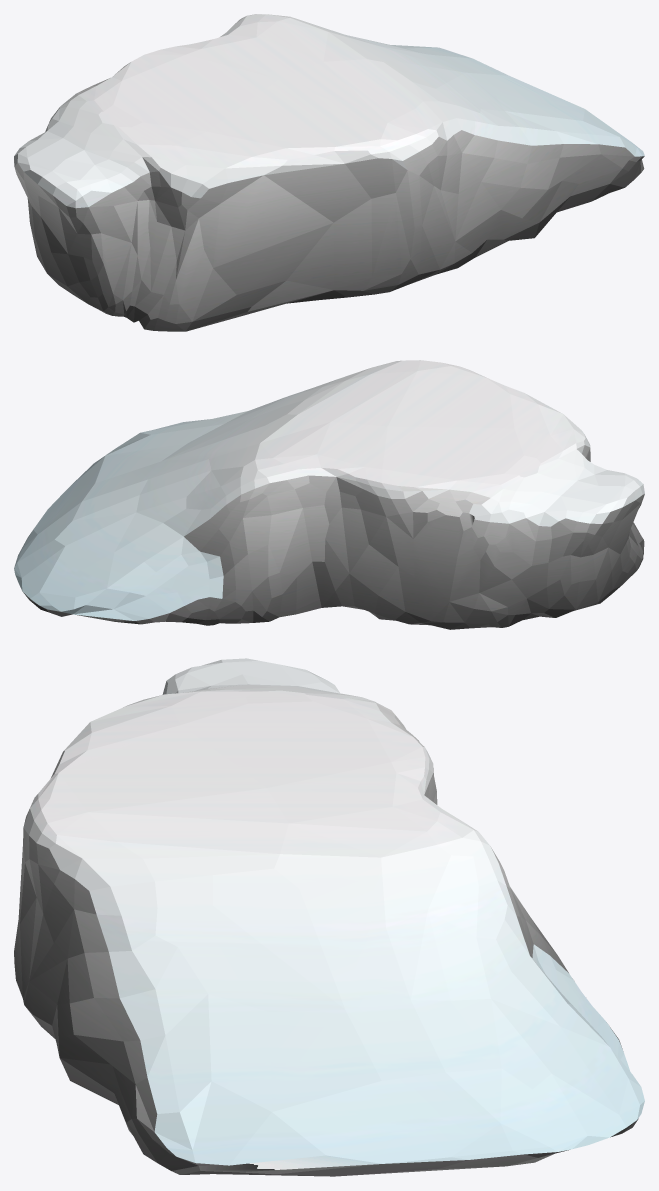
3 renders of one model, top to bottom at view 1: azimuth 30°, elevation 25°; view 2: azimuth 150°, elevation 25°; view 3: azimuth 270°, elevation 25°, orthographic. The views are drawn at different scales.
Visible parts, largest first — view 1: BigCliff; view 2: BigCliff; view 3: BigCliff.
Boxes of the visible parts, left/top/right/bottom form: BigCliff: left=14, top=14, right=644, bottom=331; BigCliff: left=14, top=360, right=644, bottom=629; BigCliff: left=14, top=658, right=644, bottom=1176.
Size of the model in its own units: 113 by 27.89 by 82.38.
1 material, 1 textured.
